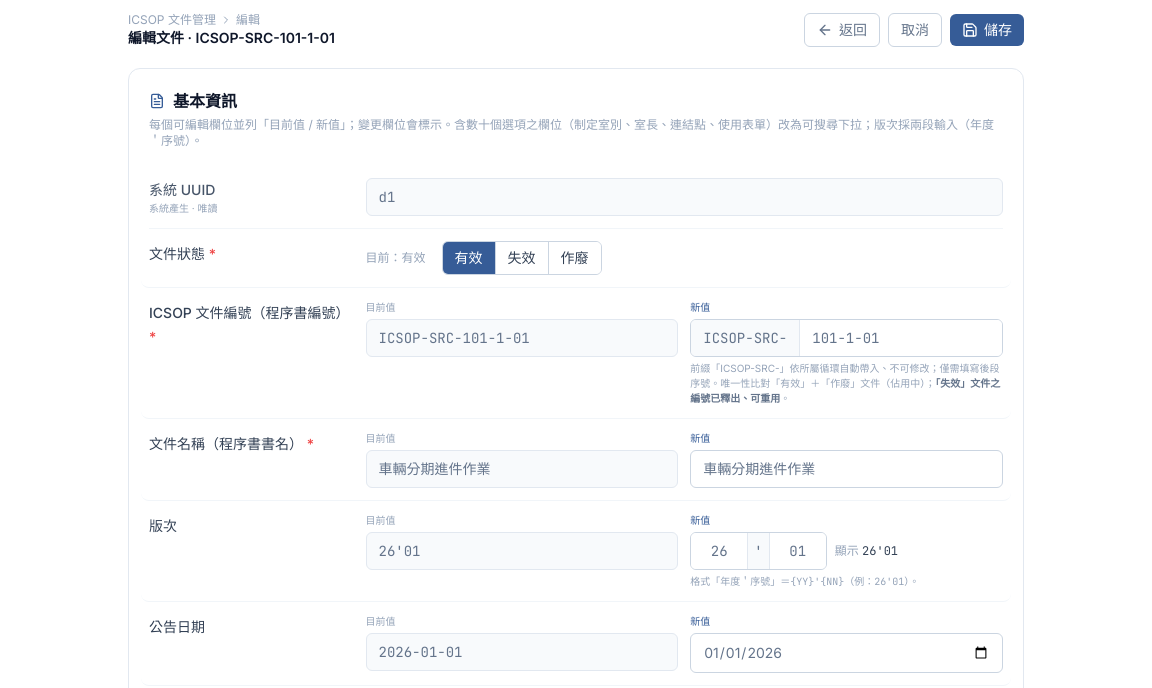
it: F011 AC-D2～AC-D5：版次輸入互動（編輯頁） › TS-F011-D2-002 年度框依序鍵入 `2`、`6` → value 依序為 "2"、"26"
Clear the field named "版次年度" at coordinates (719, 551), box [691,533,747,569]
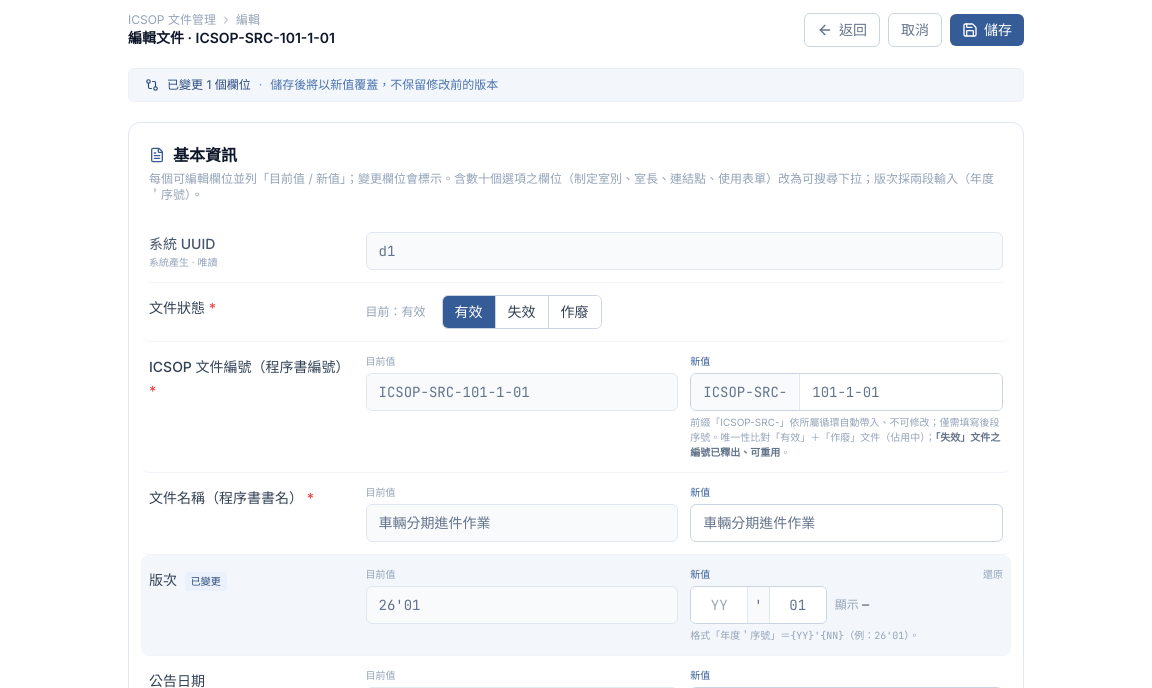
Type "2" into the field named "版次年度" at coordinates (719, 605), box [691,587,747,623]
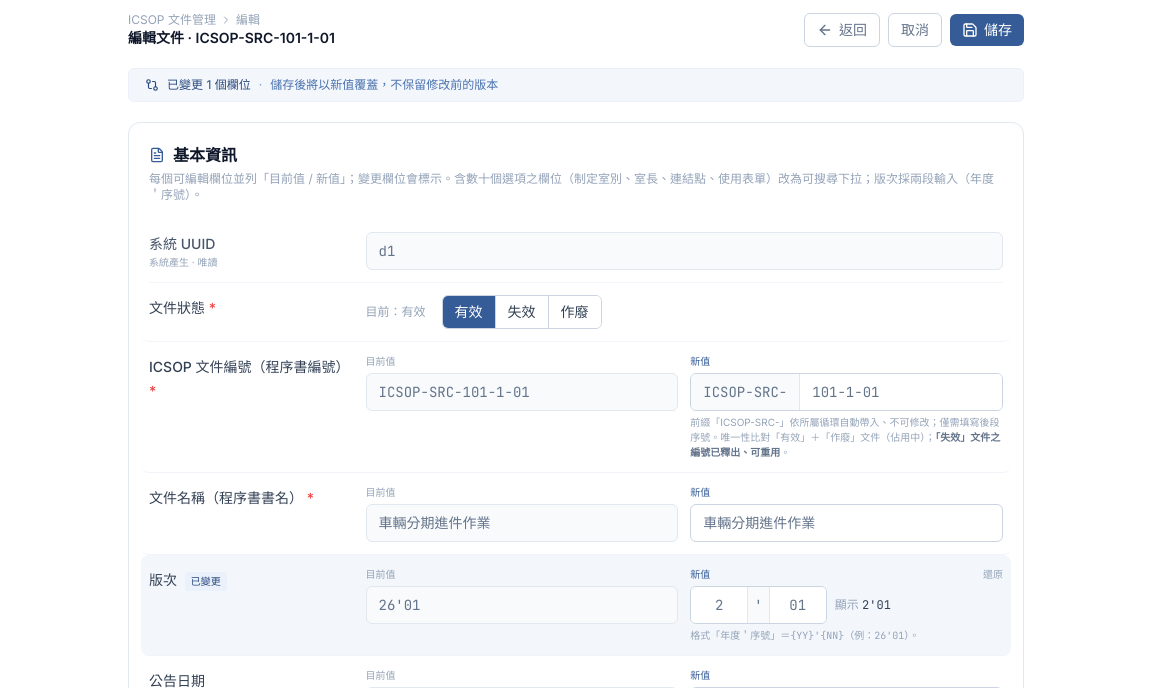
Type "6" into the field named "版次年度" at coordinates (719, 605), box [691,587,747,623]
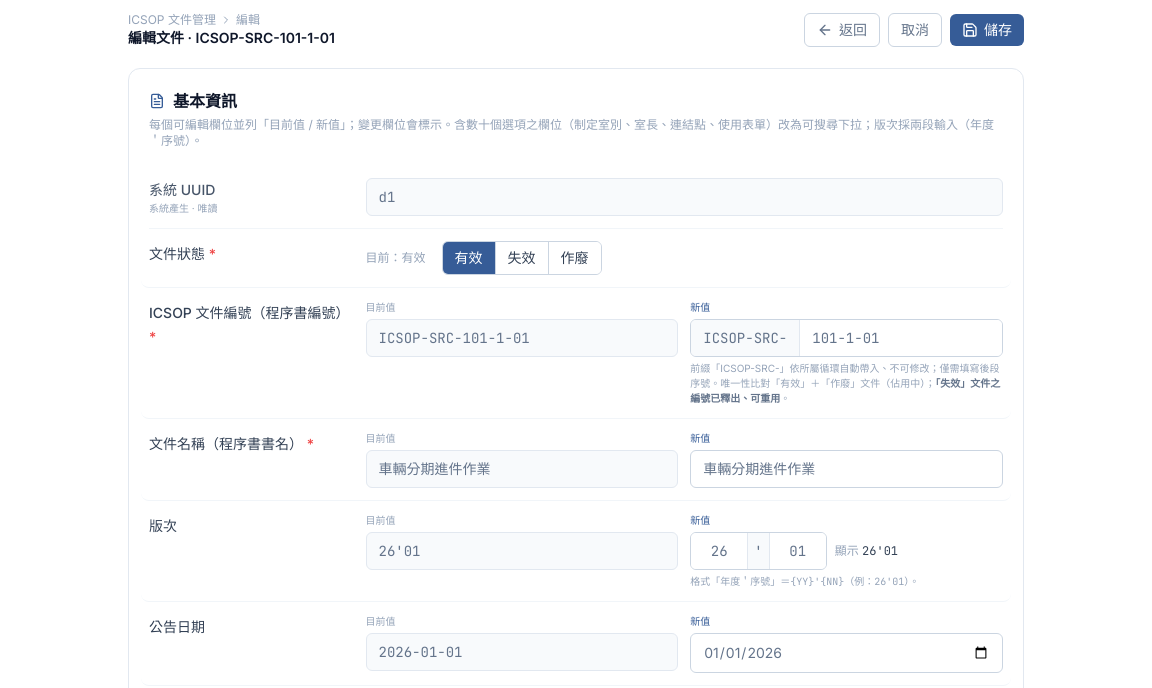
Expected: the field named "版次年度" holds "26", [691,533,747,569]
